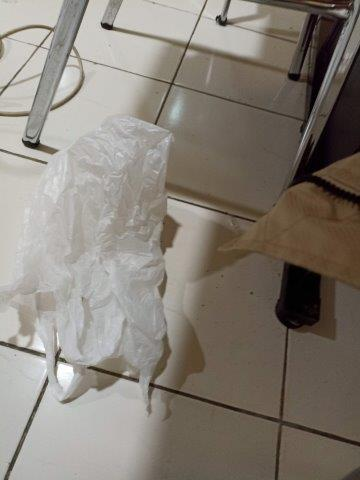plastik: (11, 116, 169, 402)
